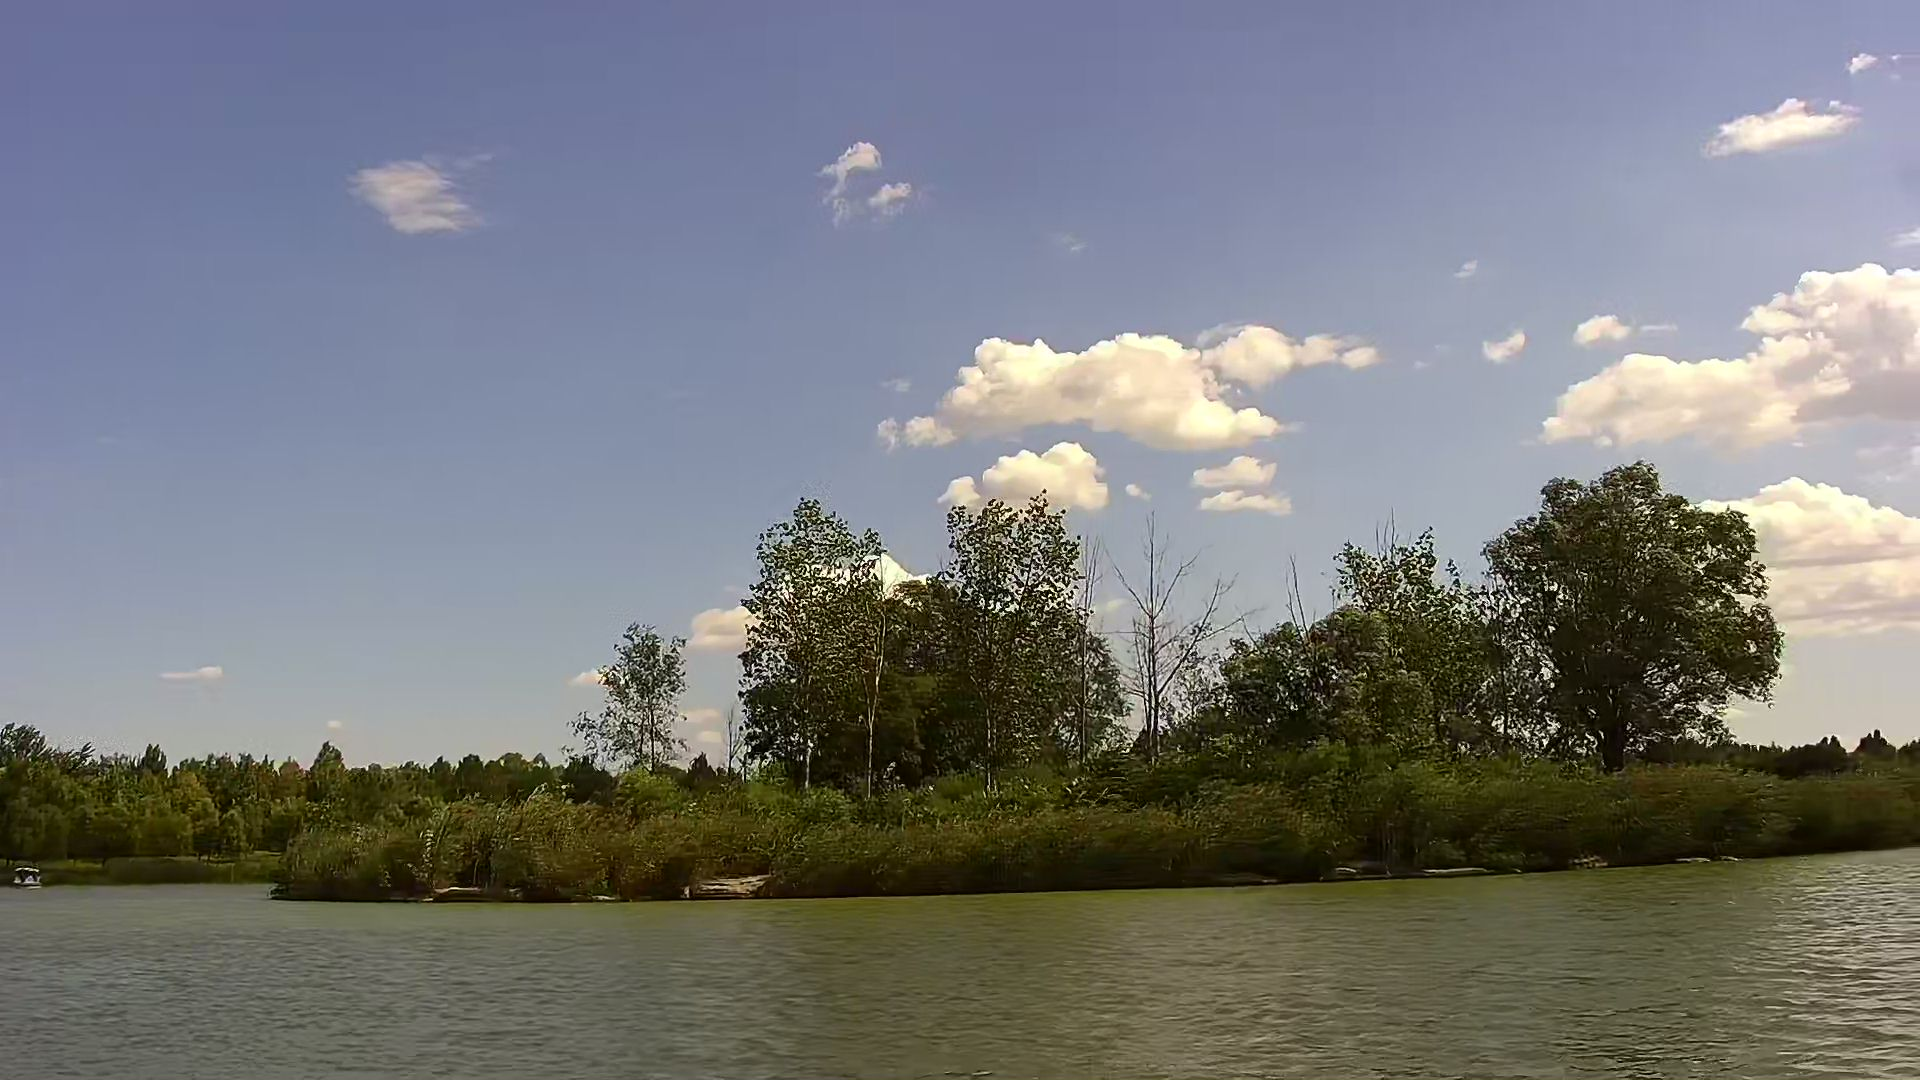boat: (12, 866, 36, 889)
rock: (690, 872, 773, 905), (429, 880, 506, 902), (1677, 848, 1731, 865), (1427, 860, 1484, 872), (1328, 860, 1357, 880), (1572, 851, 1601, 866)
